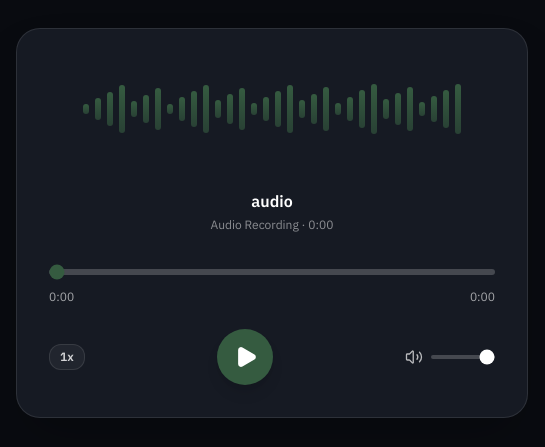
Document Viewers for all artifact types › AudioViewer › reports rejected playback without showing a false playing state
The image size is (545, 447).
Click the button named "Play" at [245, 357], box x1=217 y1=329 x2=273 y2=385
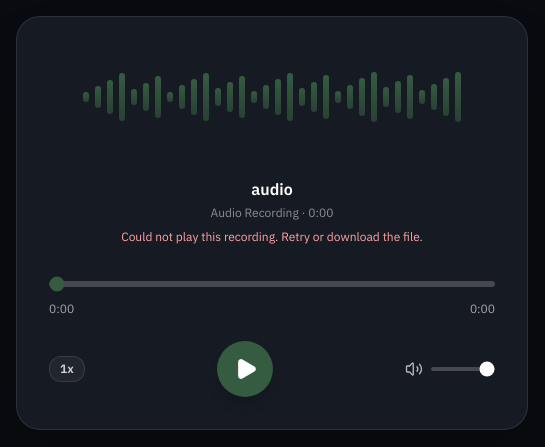
expect the button named "Play" is shown: met, box x1=217 y1=341 x2=273 y2=397
expect the message shows "Could not play this recording": met, box x1=121 y1=229 x2=423 y2=244
